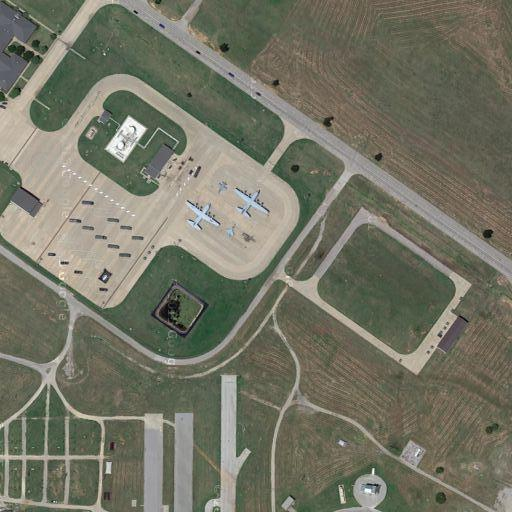C-130: (181, 195, 222, 237), (230, 182, 270, 222)
